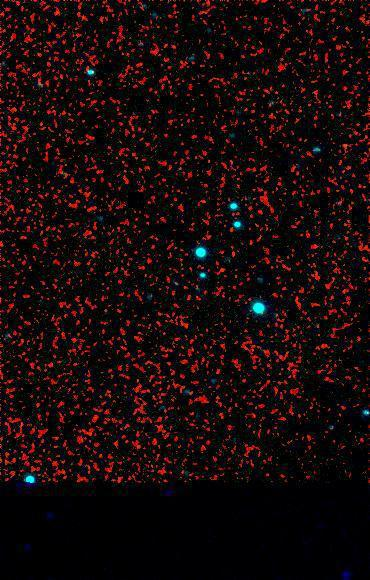star: (206, 251, 236, 281)
